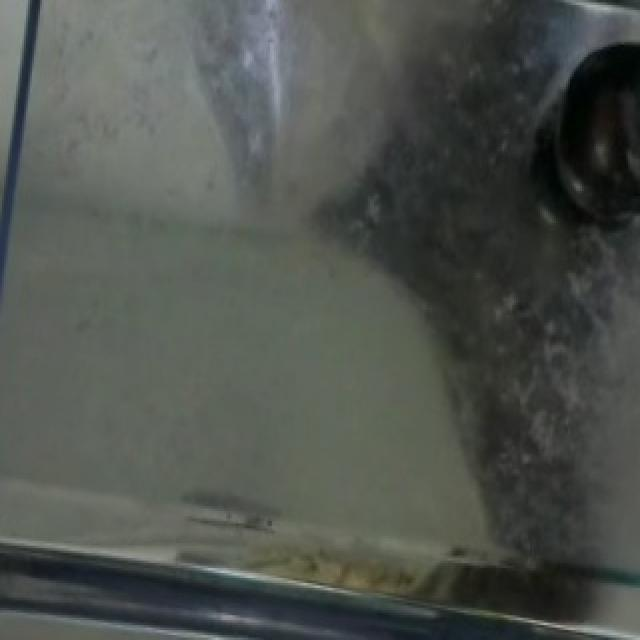Fruit: (536, 20, 640, 231)
